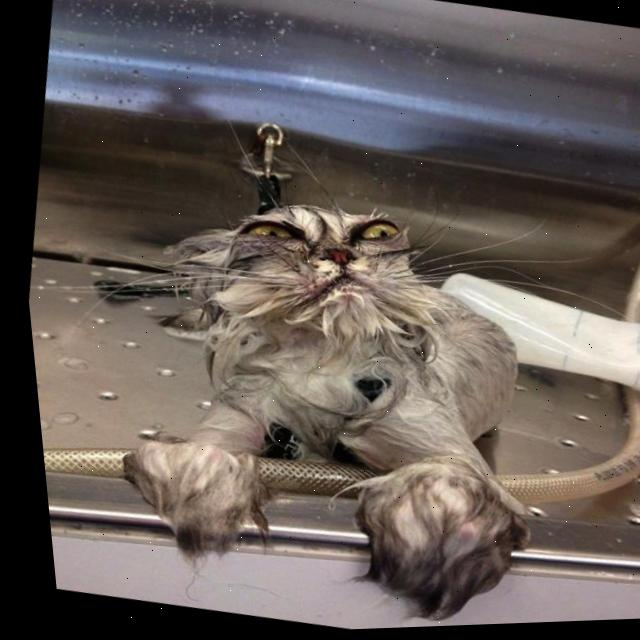Cats: (74, 165, 608, 638)
